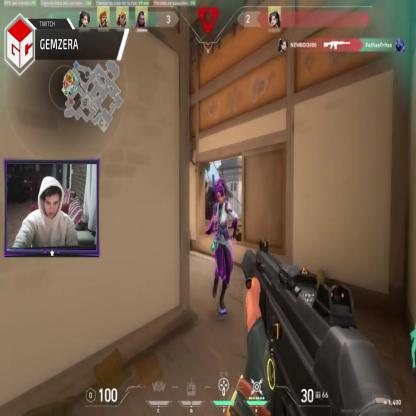enemy: (209, 176, 238, 316)
enemy_head: (216, 185, 224, 206)
